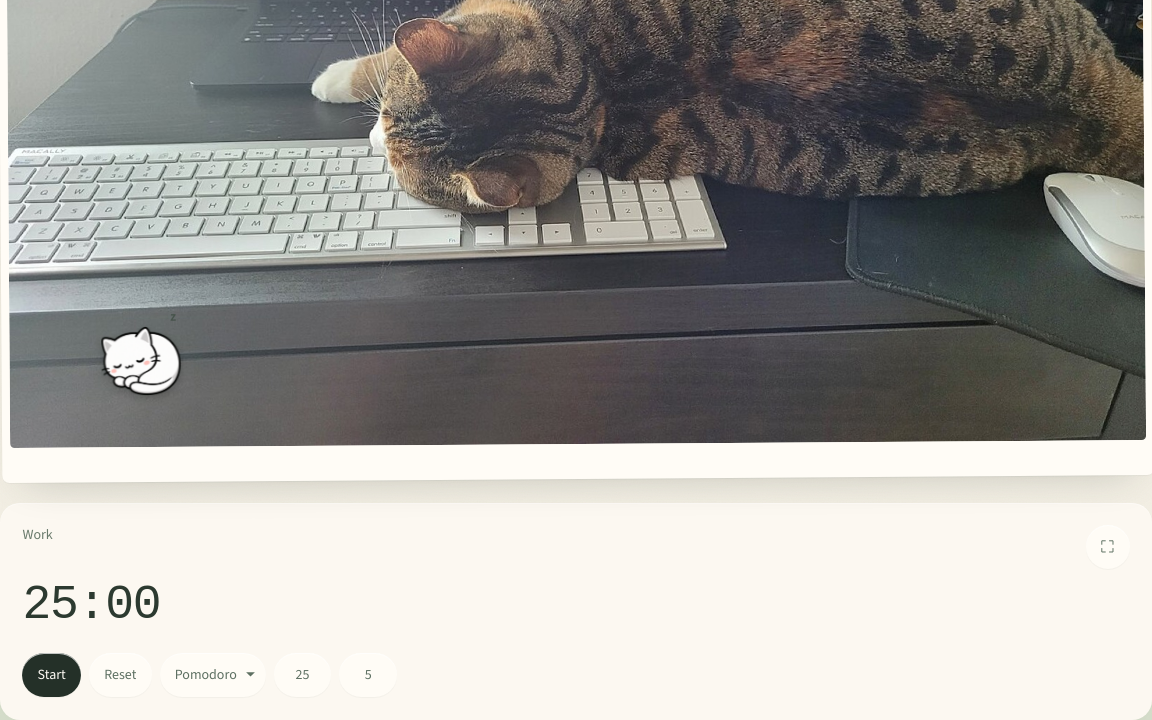
Test: FocusPage › opens a landscape picture-in-picture of the study scene
(page scrolled)
Click the button named "Full screen" at (1108, 547), box [1086,525,1130,569]
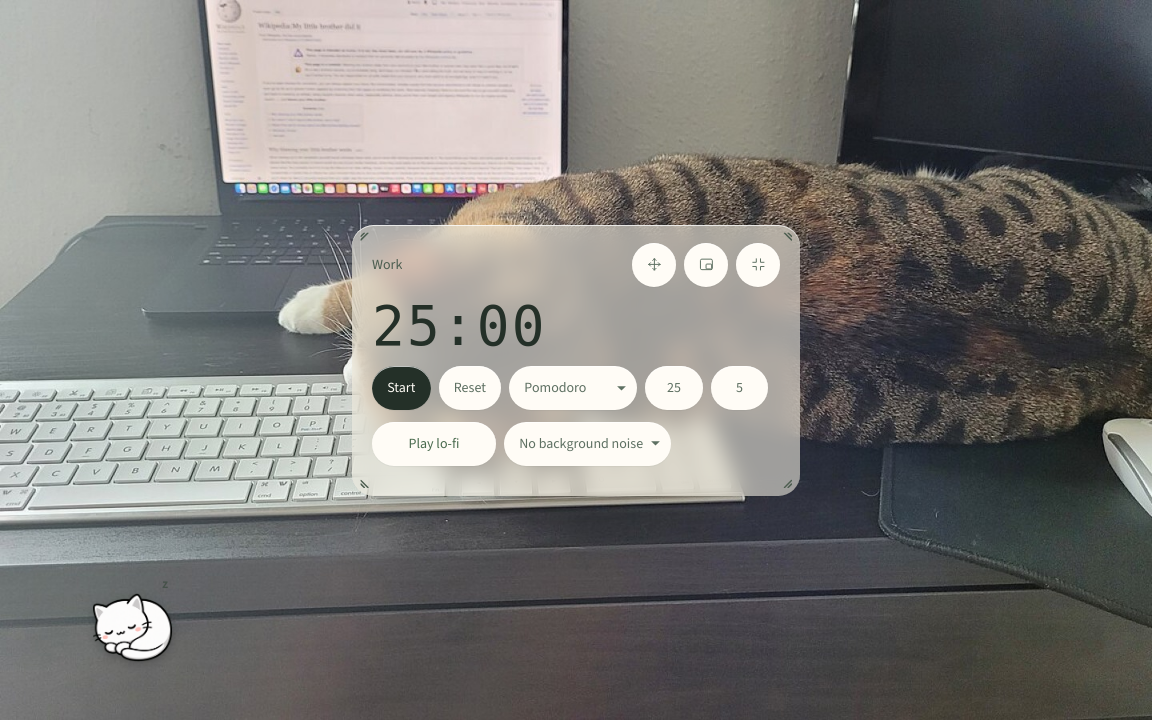
Click the button named "Picture in picture" at (706, 265), box [684,243,728,287]
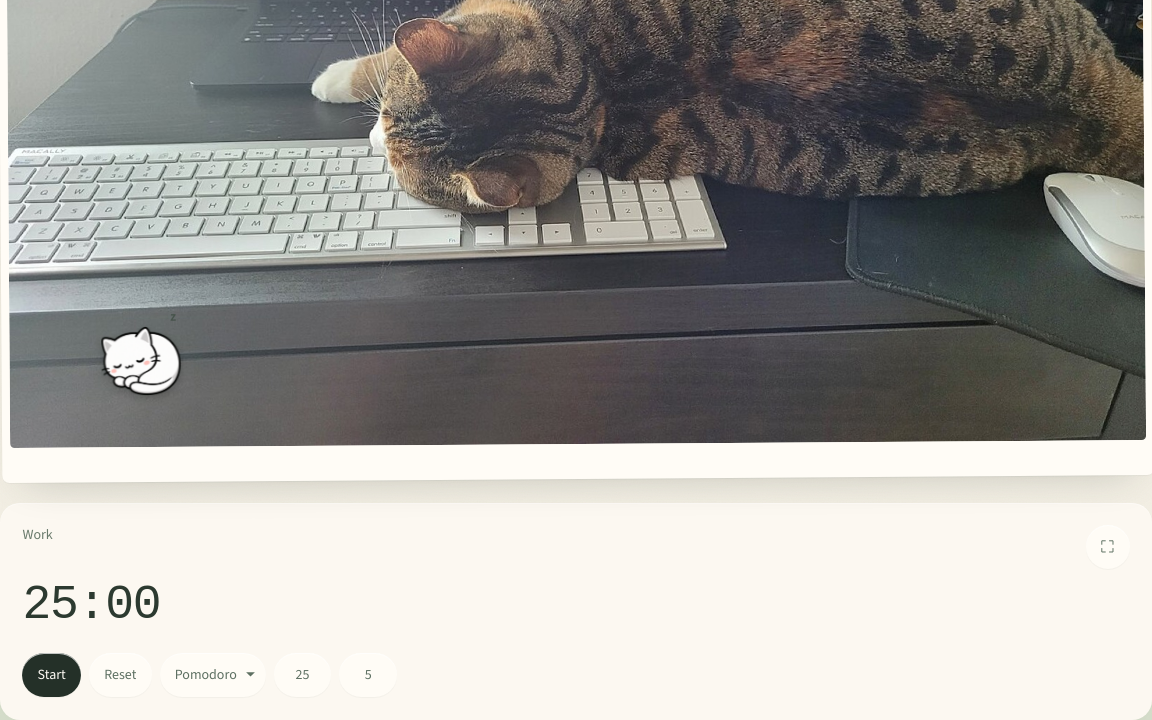
Now the dialog "z Work 25:00 Start Reset Play lo-fi" is gone
